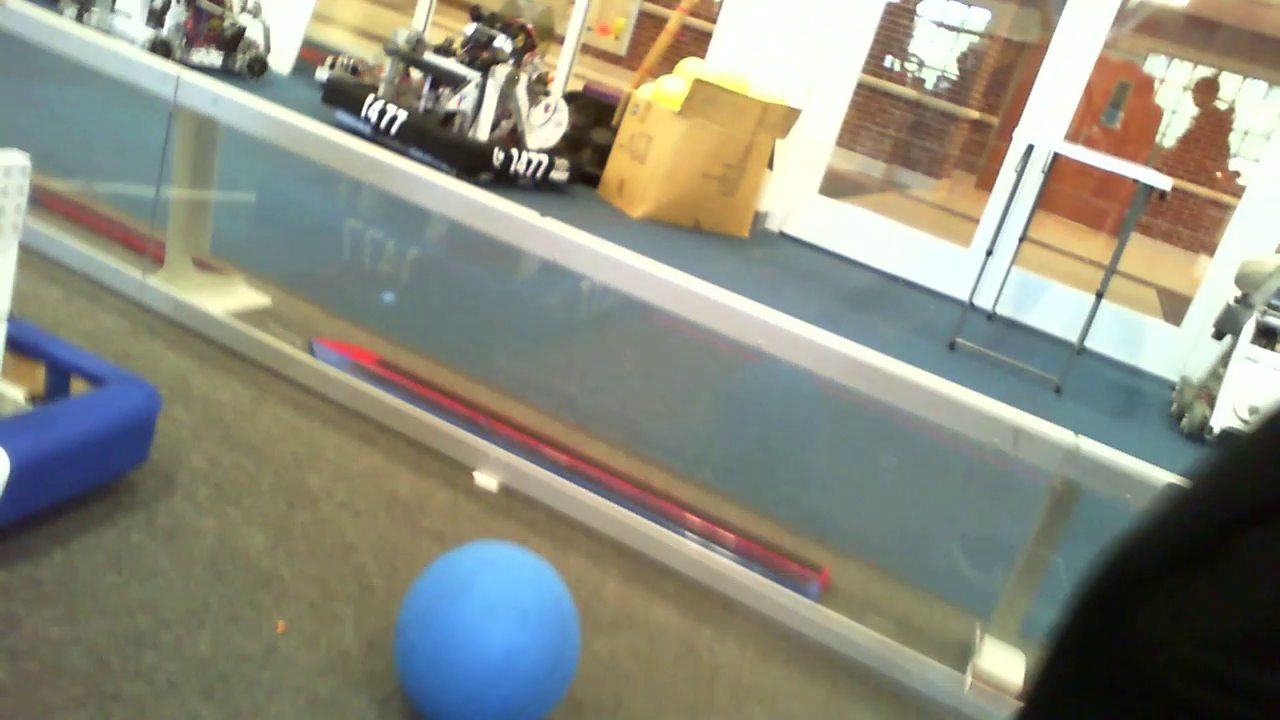blue_cargo: (392, 524, 584, 720)
